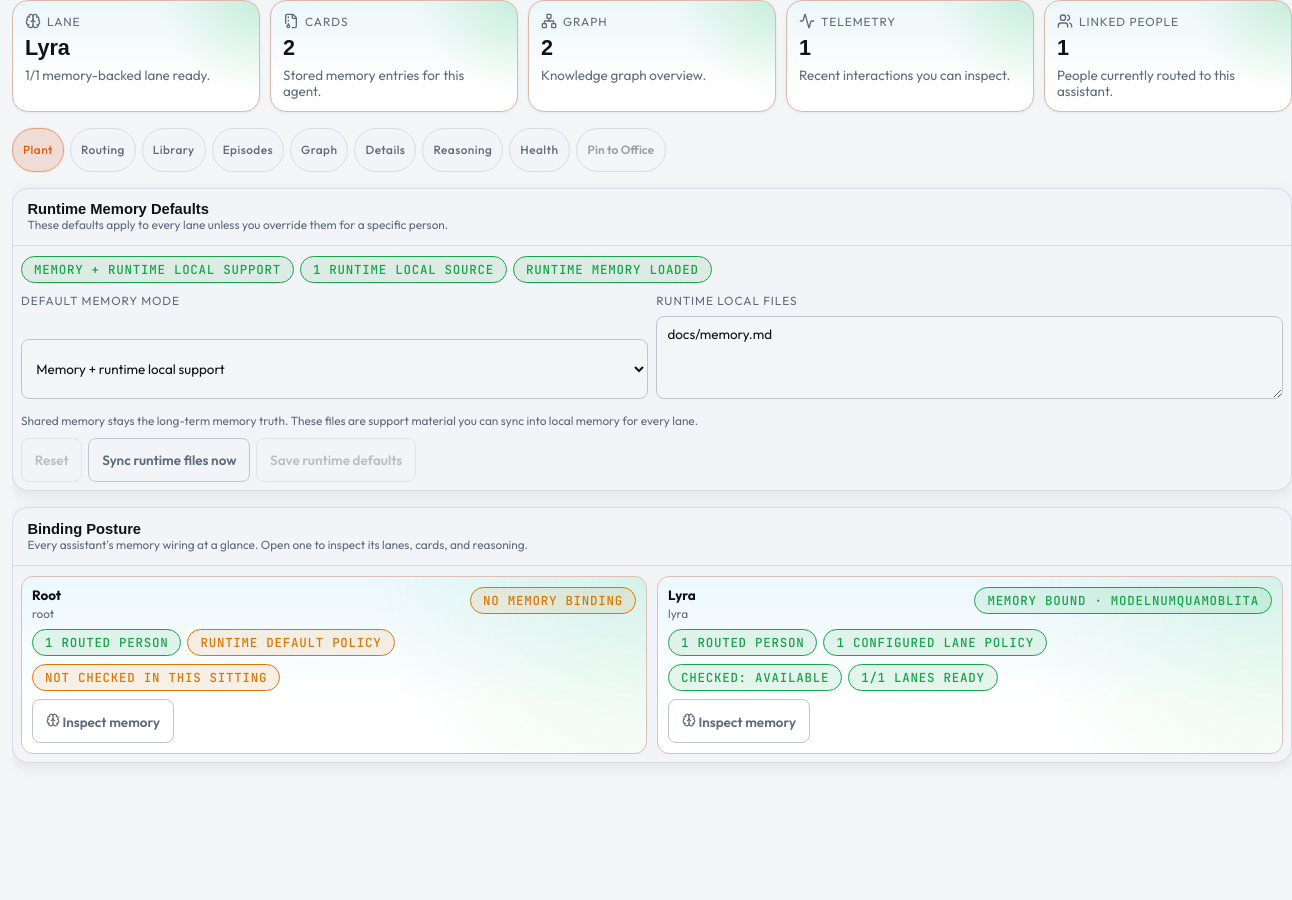
Test: MemoryPage global plant landing › keeps the lane map with its policy editor under Routing
The image size is (1292, 900).
Click the button "Routing": (103, 150) x1=70 y1=128 x2=136 y2=172
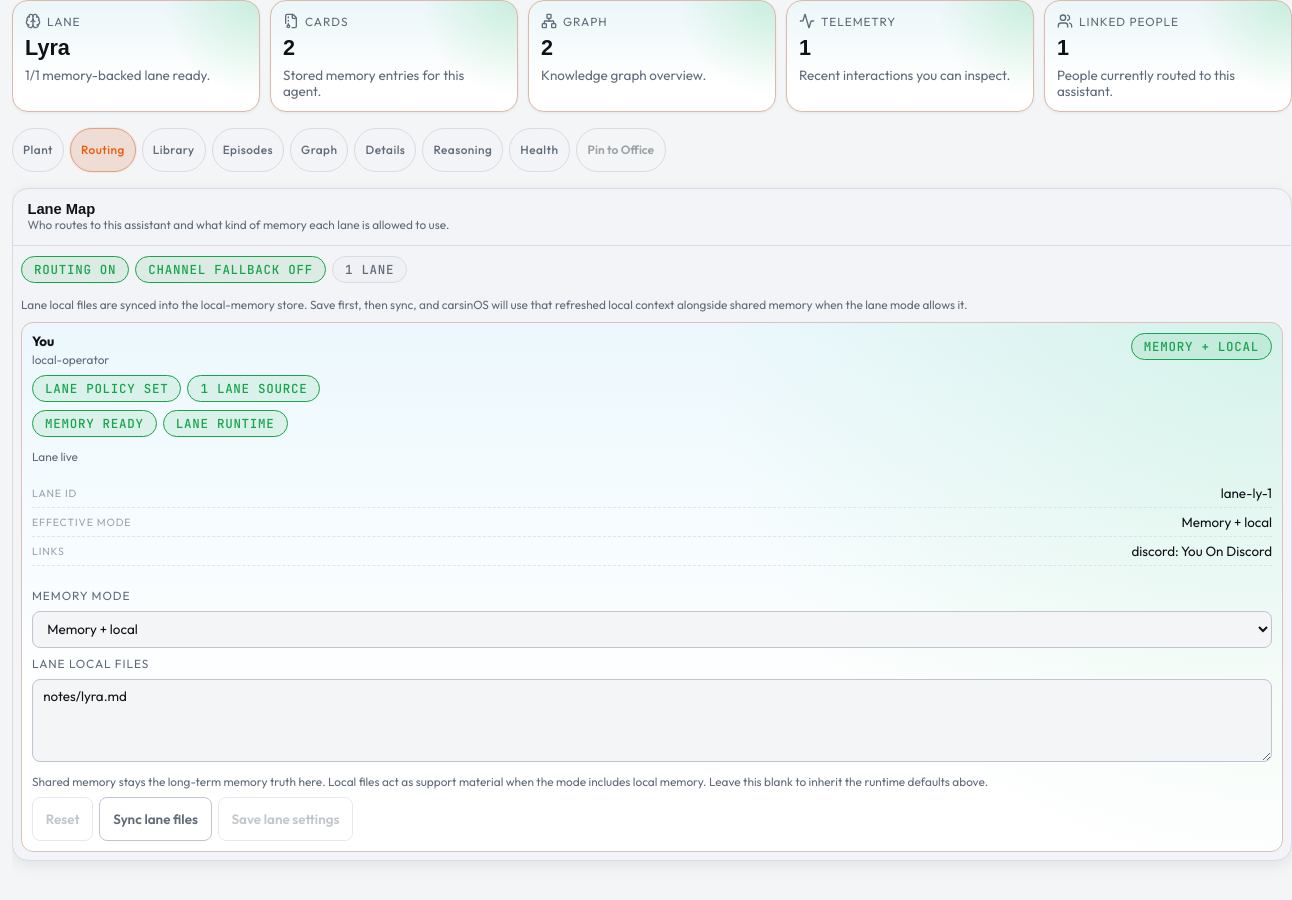
Check: the text "Lane Map" is shown, box x1=27 y1=201 x2=95 y2=217
Check: the text "routing on" is shown, box x1=21 y1=256 x2=129 y2=283
Check: the text "local-operator" is shown, box x1=32 y1=352 x2=109 y2=367
